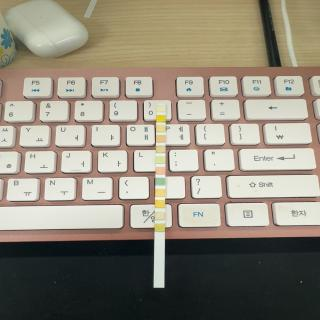mark: (155, 200, 165, 208), (156, 190, 166, 198), (156, 156, 166, 164), (156, 146, 166, 154), (155, 212, 164, 220), (157, 167, 166, 175), (157, 134, 166, 142), (156, 115, 166, 122), (156, 105, 166, 112), (156, 224, 164, 232), (156, 178, 164, 186), (156, 125, 165, 132)
